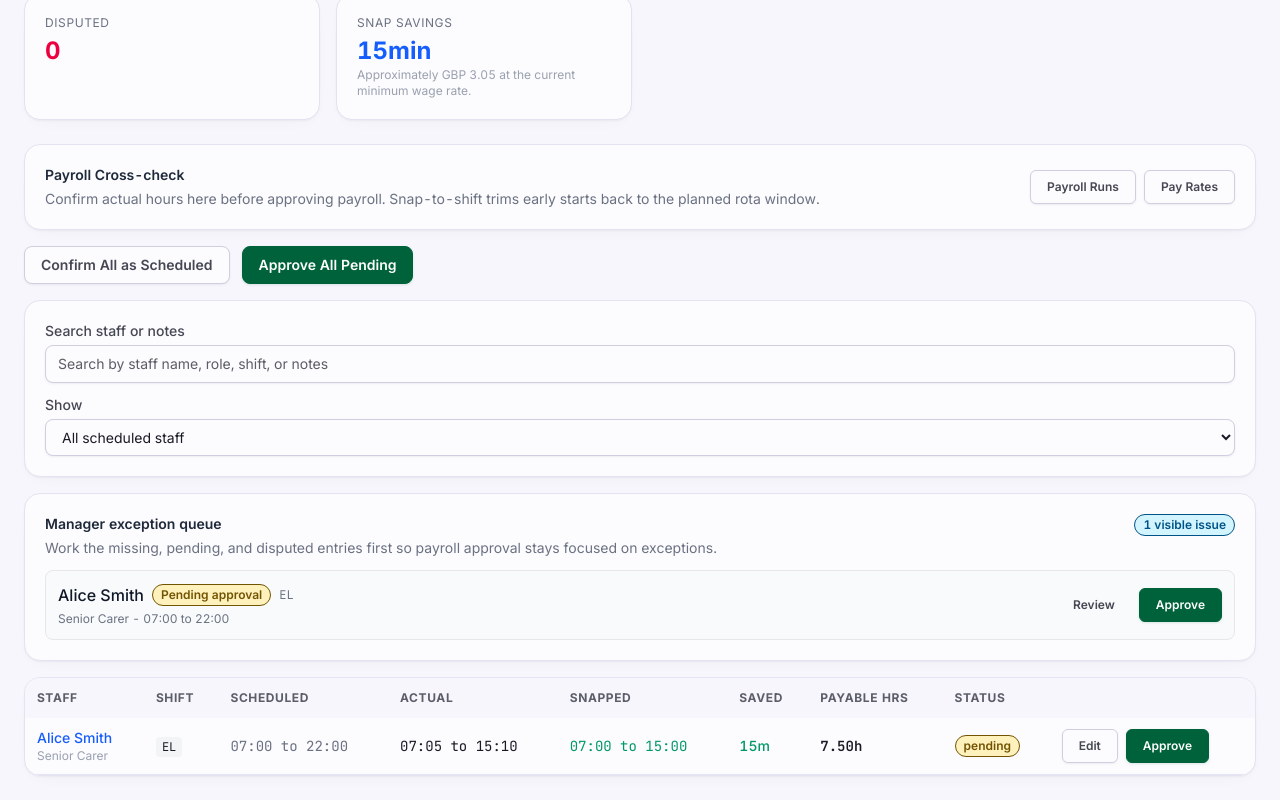
Scenario: TimesheetManager › keeps save validation inside the edit modal
The image size is (1280, 800).
(page scrolled)
Click the button "Review" at {"x": 1094, "y": 605}, box [1057, 589, 1131, 621]
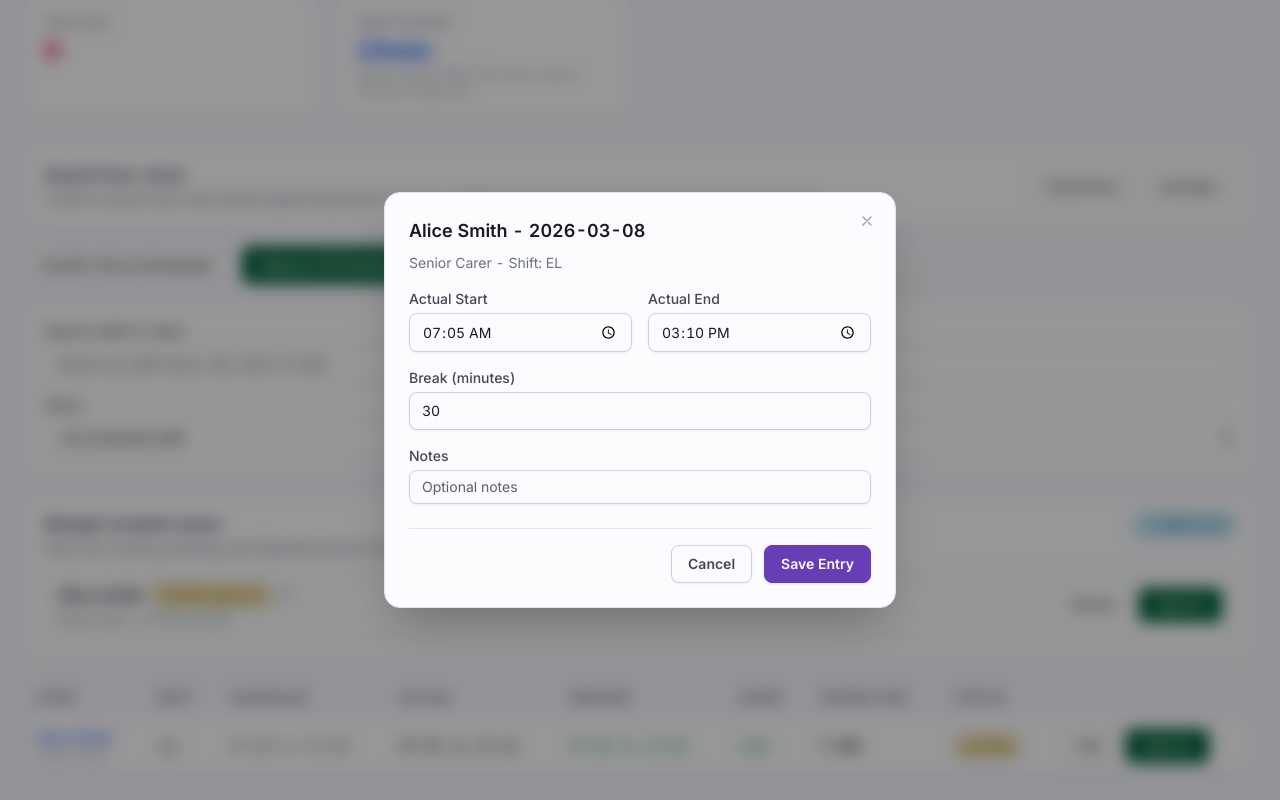
Clear the time field labelled "Actual Start" at {"x": 520, "y": 333}, box [409, 313, 632, 352]
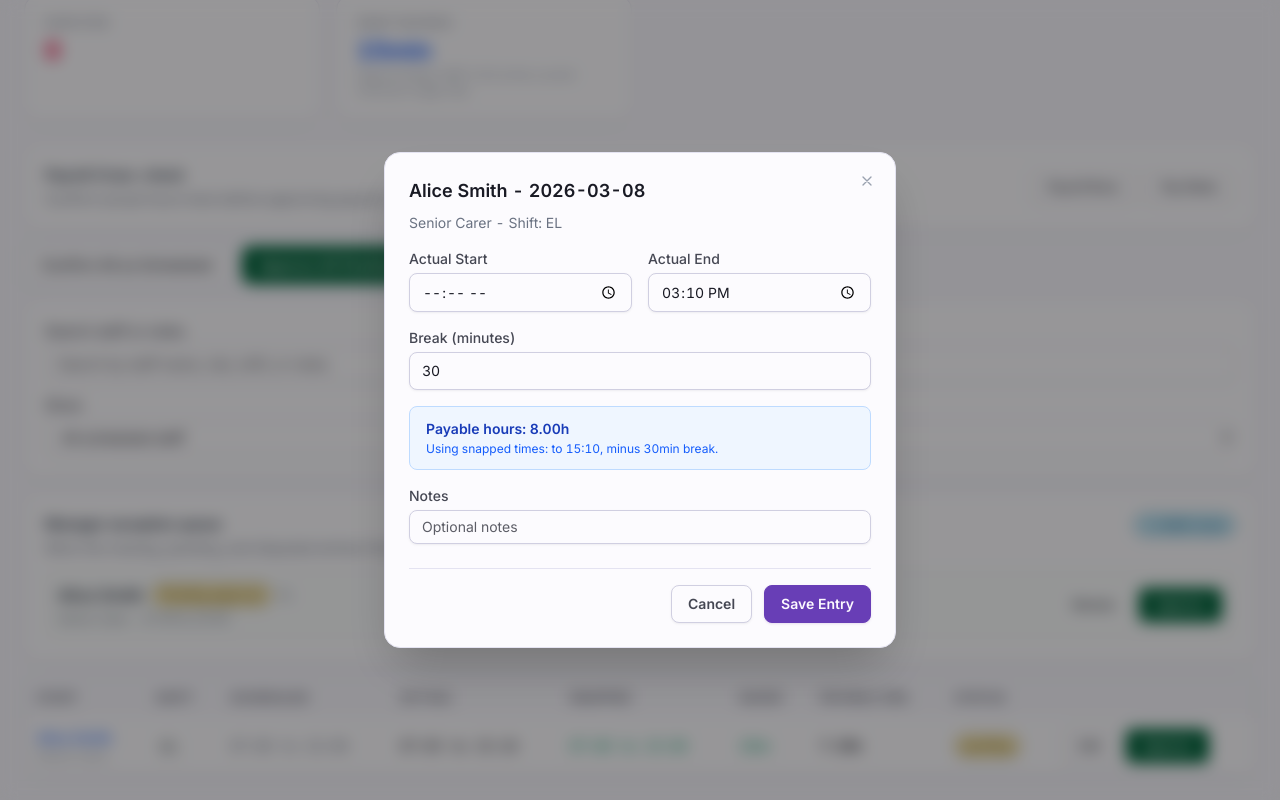
Click the button "Save Entry" at {"x": 818, "y": 604}, box [764, 585, 871, 623]
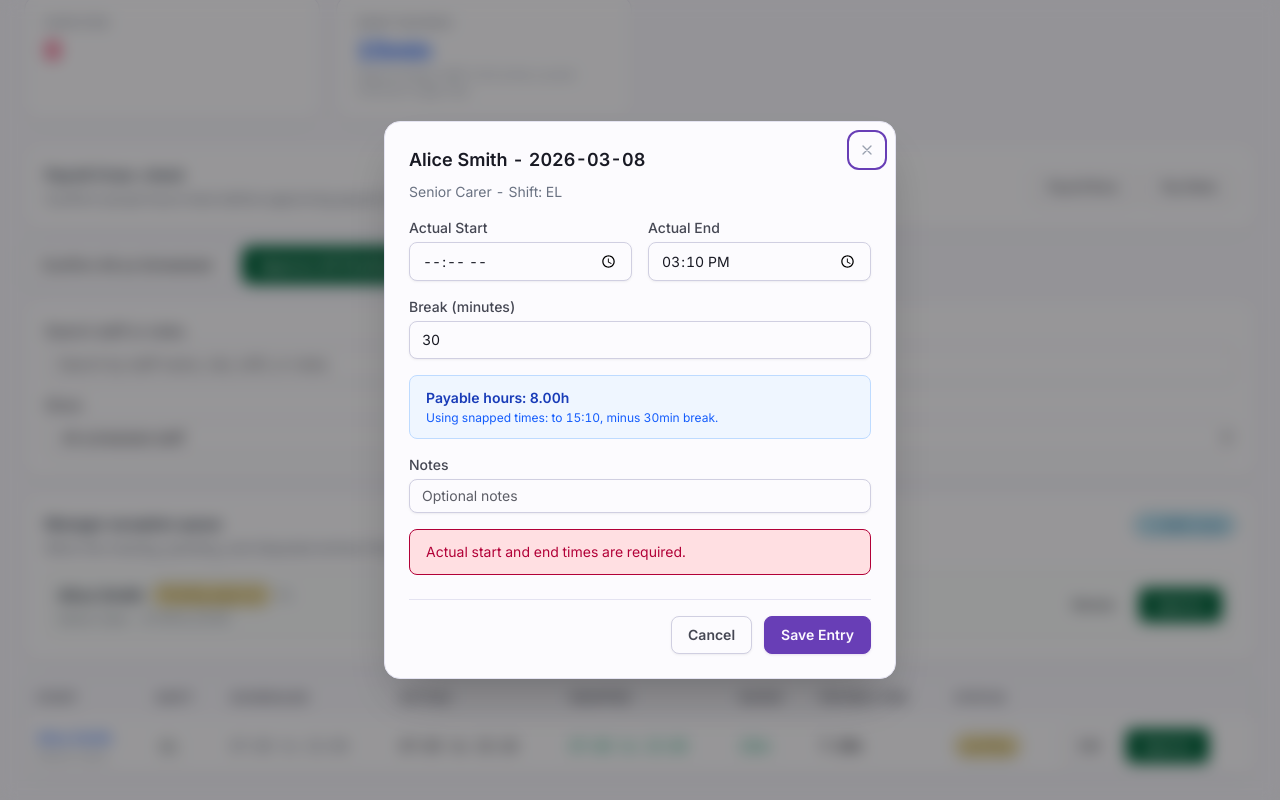
expect the text "Actual start and end times are required." is shown: met, box [426, 542, 686, 562]
